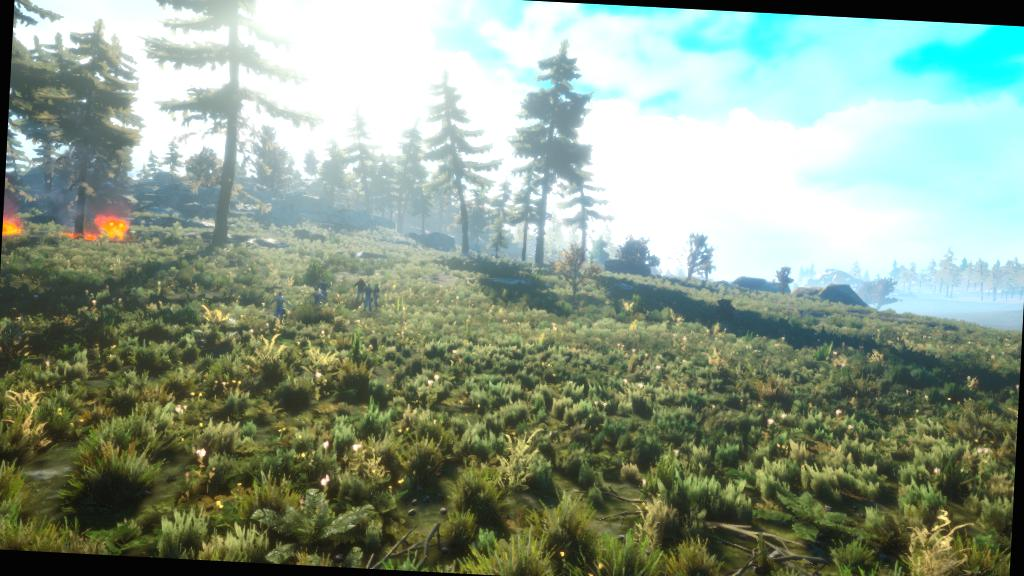Fire: (62, 212, 130, 244), (2, 202, 31, 238)
human: (350, 268, 392, 314), (306, 270, 340, 316), (264, 281, 288, 327)
smoke: (60, 156, 142, 212)
